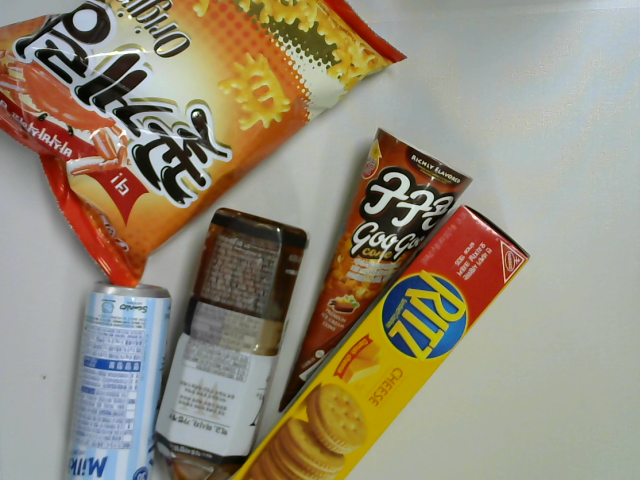Crabrang: (1, 1, 415, 287)
GooGoo_Cone_CVS: (276, 127, 473, 421)
Milkies_250ml: (65, 280, 173, 480)
Post-meal_recipe_W_tea_500ml: (151, 206, 311, 480)
Ritz_Sand_Cracker: (229, 199, 532, 480)
